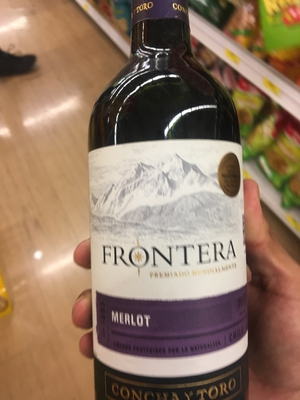frontera merlot: (86, 16, 265, 400)
